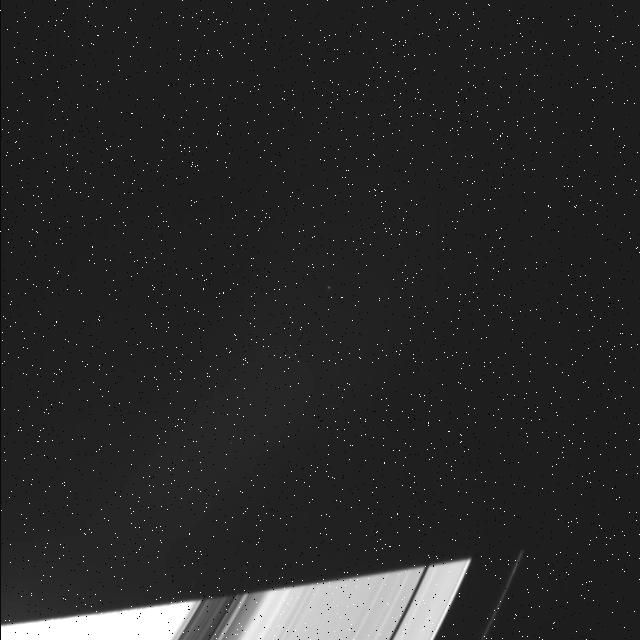Saturn: (1, 550, 524, 640)
